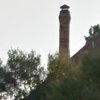Chimney: (51, 1, 78, 62)
